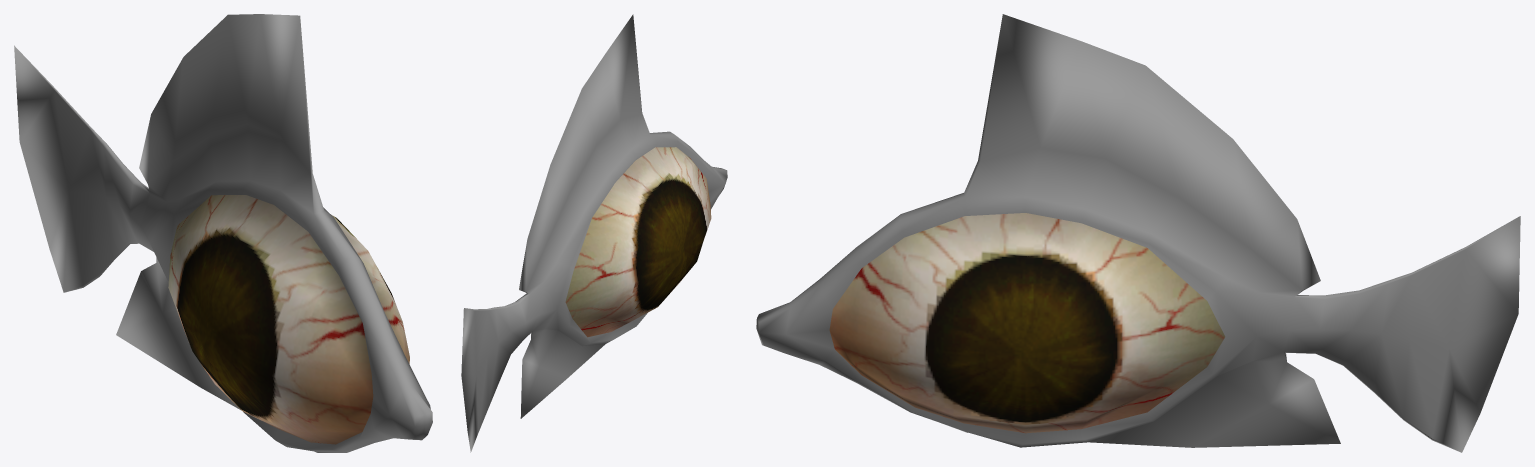
Rendered from junglefish-lod0.glb.
3 views of the same model, side by side, from view 1: azimuth 30°, elevation 25°; view 2: azimuth 150°, elevation 25°; view 3: azimuth 270°, elevation 25° (orthographic). The views are drawn at different scales.
Parts seen in each view (by area): view 1: SK_EyeFish.001; view 2: SK_EyeFish.001; view 3: SK_EyeFish.001.
Part boxes in pixels (x1,y1,x2,y2): SK_EyeFish.001: (14,14,432,452); SK_EyeFish.001: (461,14,727,452); SK_EyeFish.001: (756,14,1520,452).
Bounding box in the file's own units: 0.7387 × 1.94 × 3.04.
Materials: 2 (1 with a texture image).
